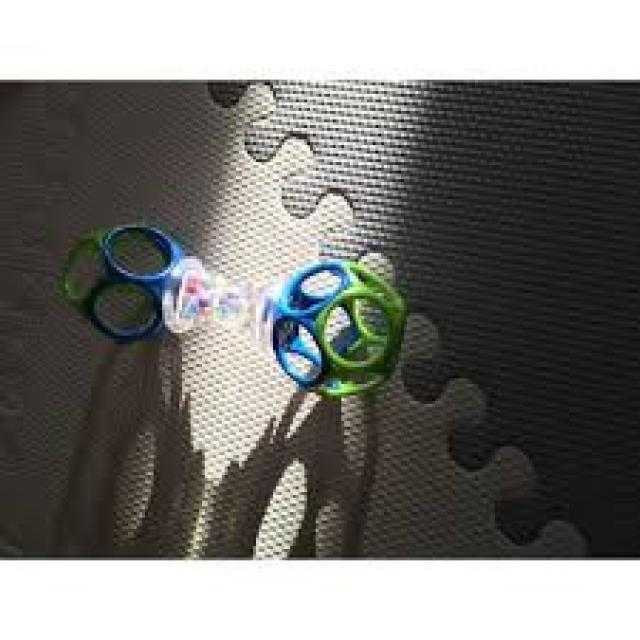hard-toy: (61, 226, 405, 397)
